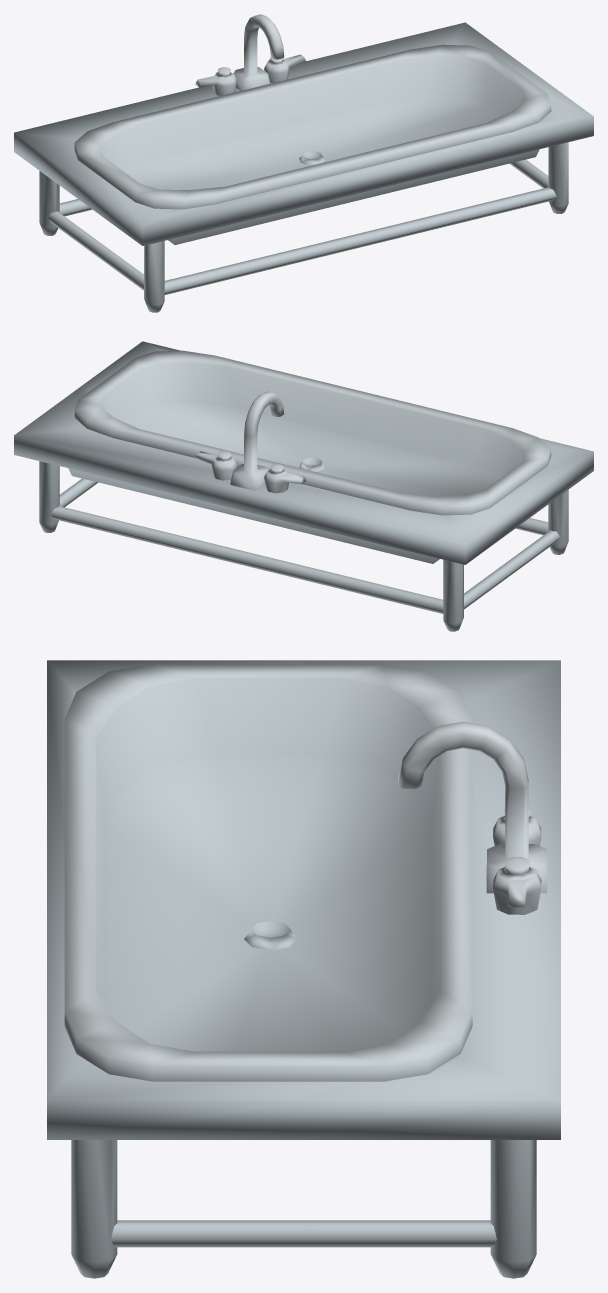
File: lavaplatos.glb
3 views of the same model, one above another, from view 1: azimuth 30°, elevation 25°; view 2: azimuth 150°, elevation 25°; view 3: azimuth 270°, elevation 25° (orthographic). The views are drawn at different scales.
Visible parts, largest first — view 1: kitchentable_sink.005; view 2: kitchentable_sink.005; view 3: kitchentable_sink.005.
Boxes of the visible parts, x1,y1,x2,y2 form: kitchentable_sink.005: (14, 14, 593, 312); kitchentable_sink.005: (14, 341, 593, 631); kitchentable_sink.005: (47, 660, 560, 1278).
Bounding box in the file's own units: 4.85 × 1.81 × 2.39.
Materials: 1 (1 with a texture image).
